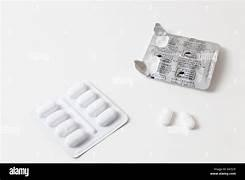pill_Strip: (47, 82, 127, 157), (134, 23, 220, 89), (65, 82, 127, 155), (57, 124, 122, 157), (38, 116, 85, 157), (71, 122, 124, 157), (85, 82, 127, 120), (58, 99, 96, 133), (36, 99, 68, 127), (95, 107, 119, 127), (65, 129, 89, 147), (55, 118, 78, 136), (97, 108, 118, 126), (36, 101, 59, 117), (87, 98, 107, 116), (76, 90, 97, 107), (46, 110, 68, 126), (158, 108, 175, 125), (180, 112, 196, 129), (158, 108, 174, 125), (67, 84, 86, 98)
